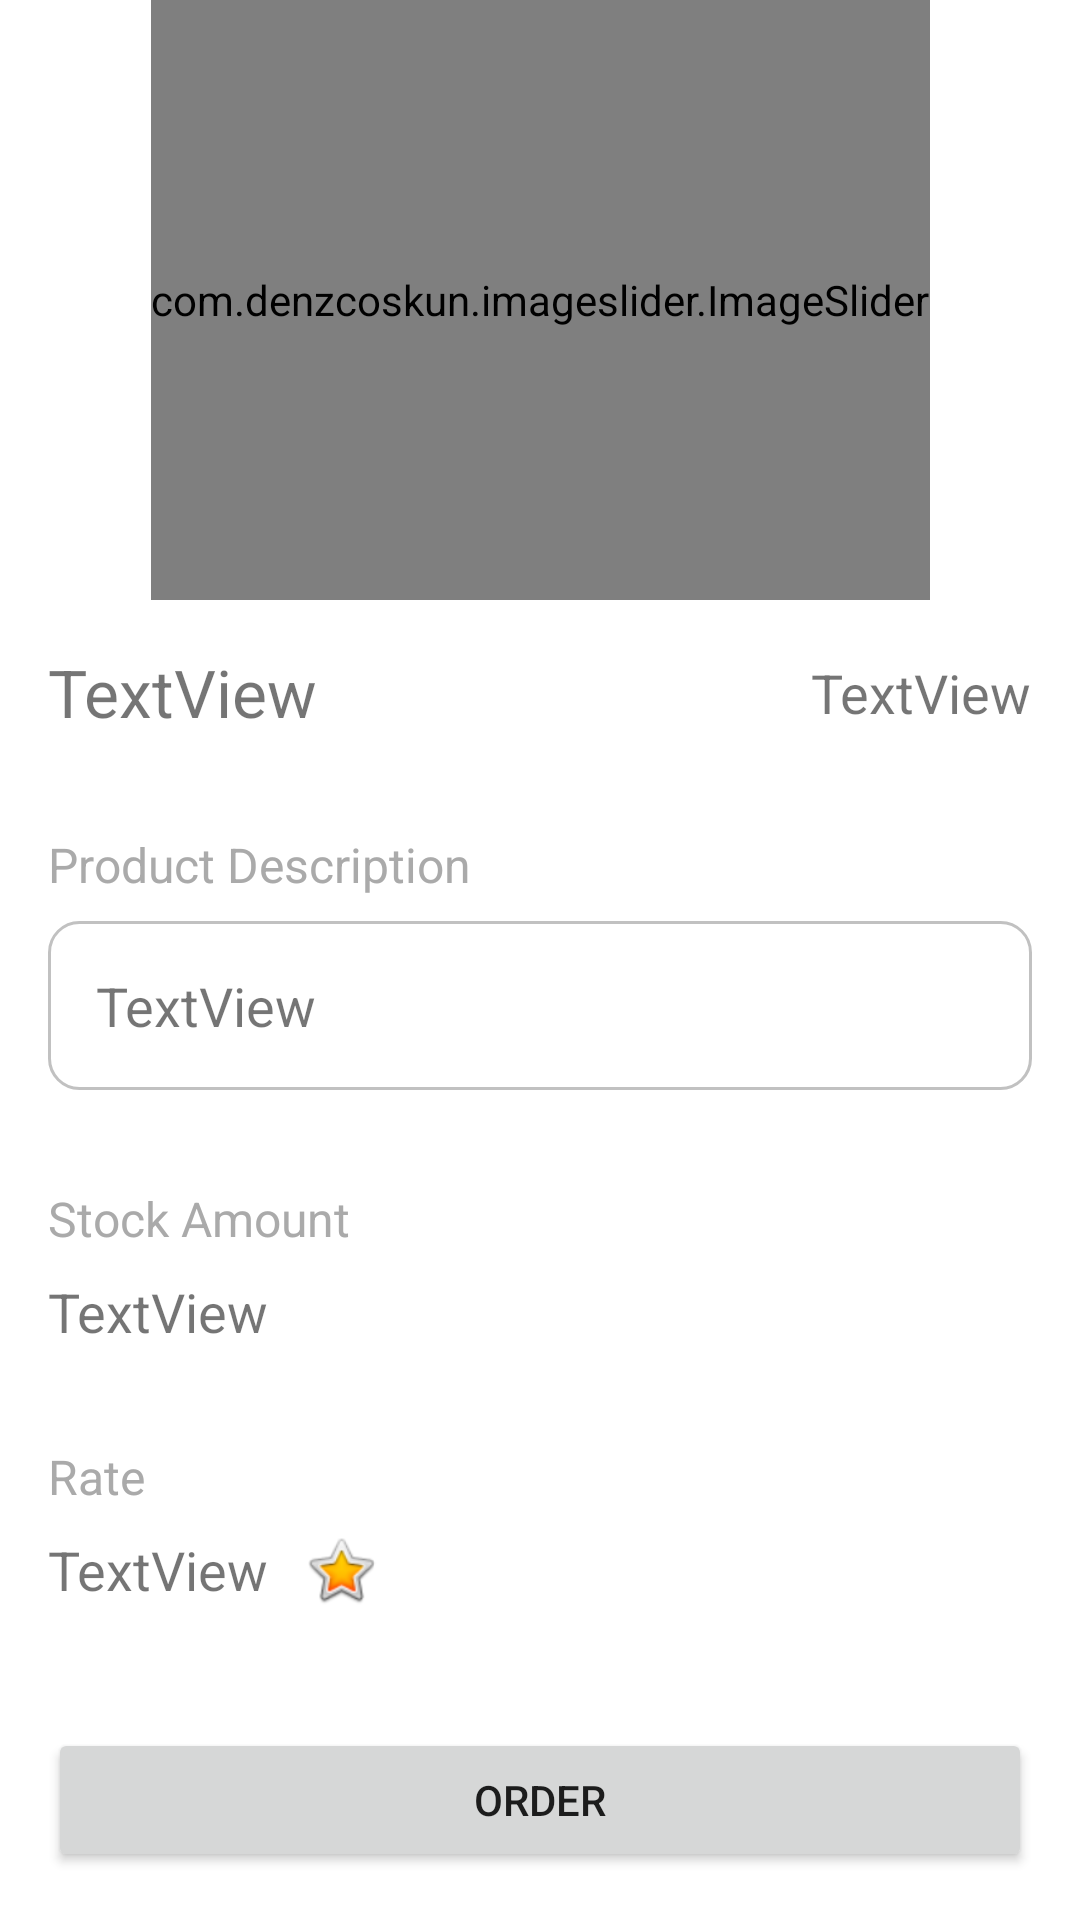

Screen size 1080x1920. Icon name, then its box in pixels as (x1, y1, x2, y2):
star on: (309, 1539, 374, 1602)
